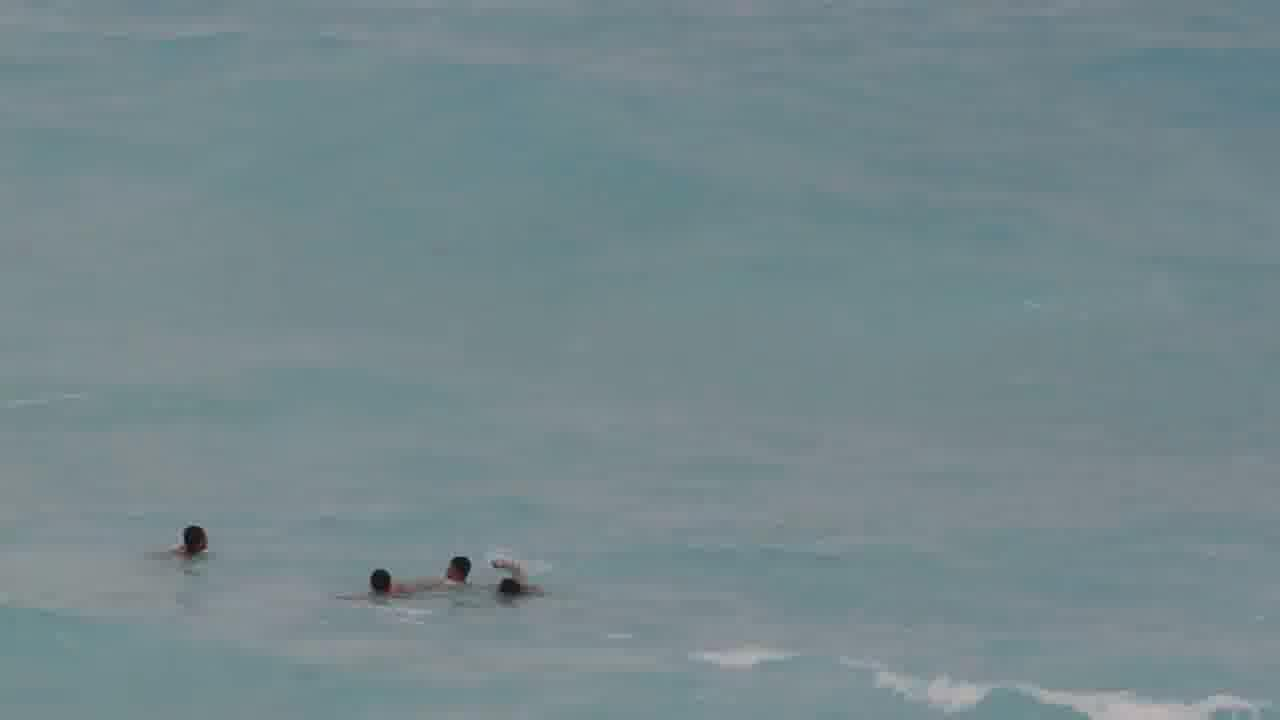human: (483, 554, 548, 602), (152, 516, 217, 560), (416, 549, 485, 584), (341, 565, 423, 594)
